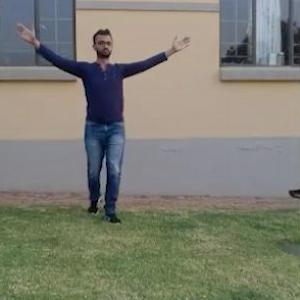takeoff: (20, 26, 188, 215)
